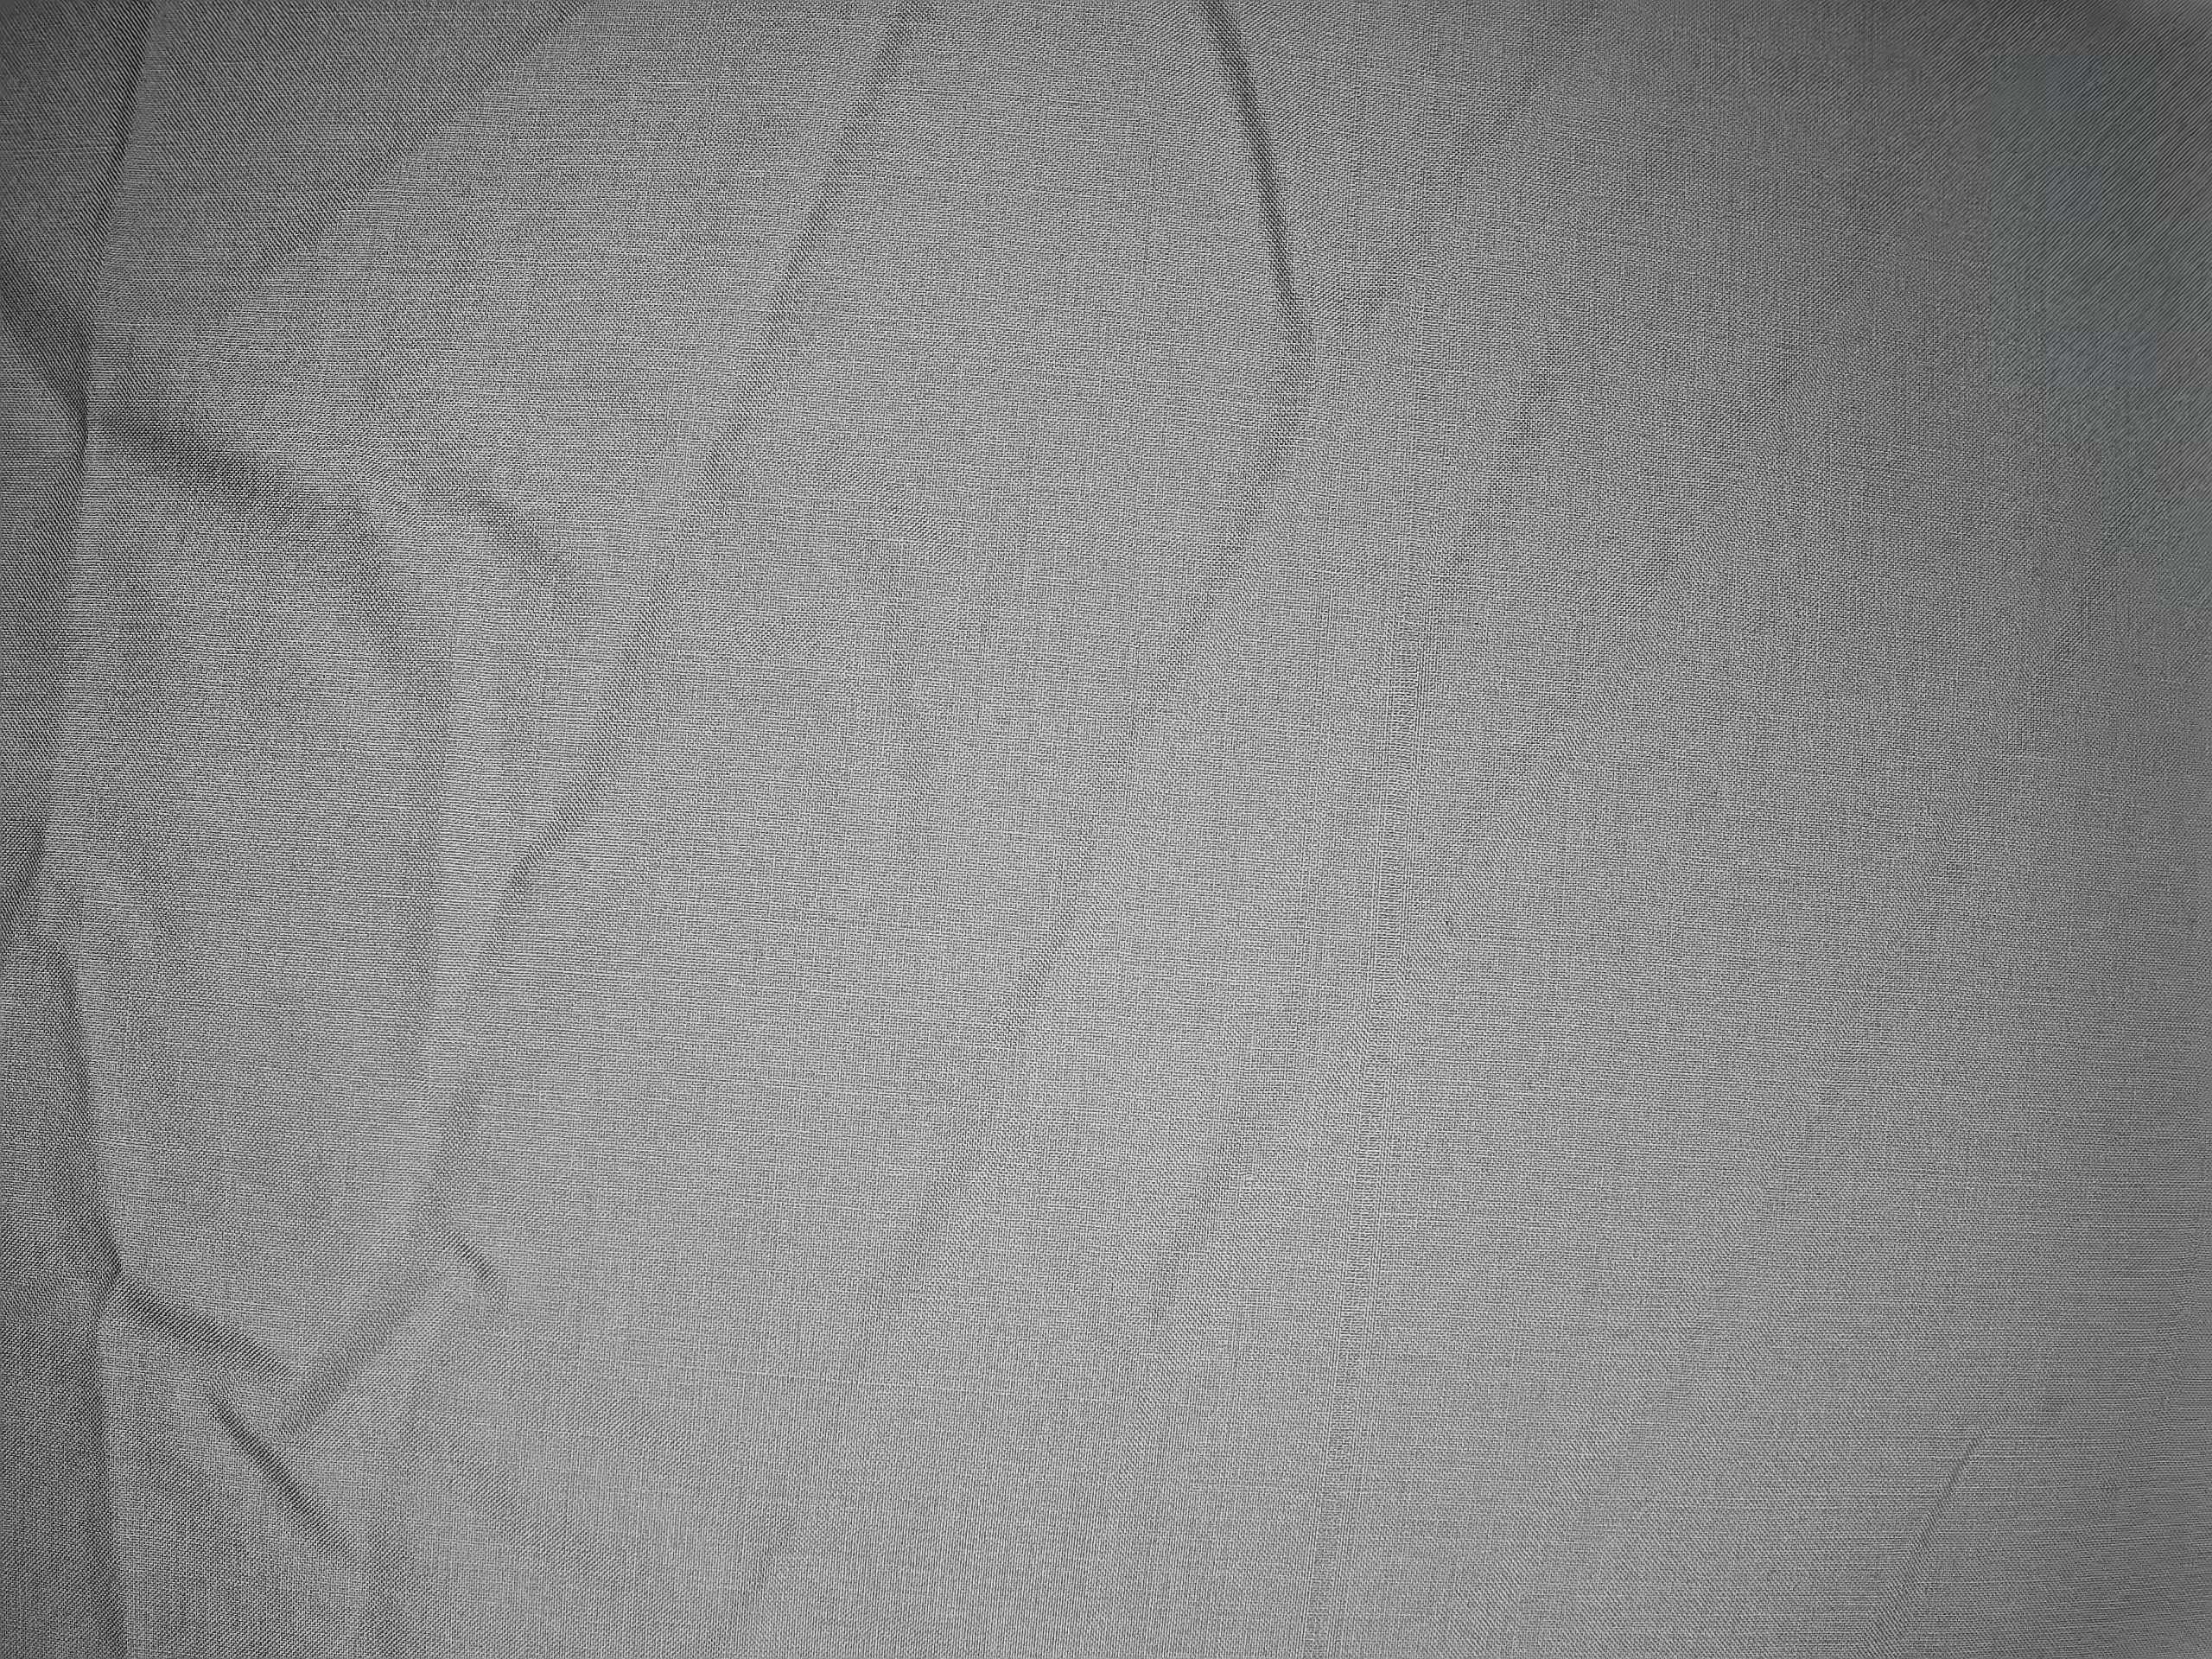hanging-warp: (1343, 277, 1442, 1425)
